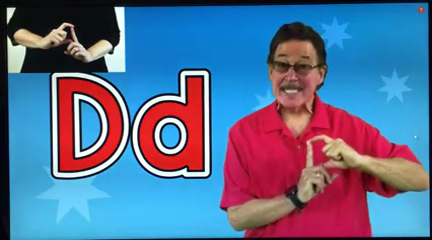D: (299, 133, 359, 199), (42, 20, 89, 63)
